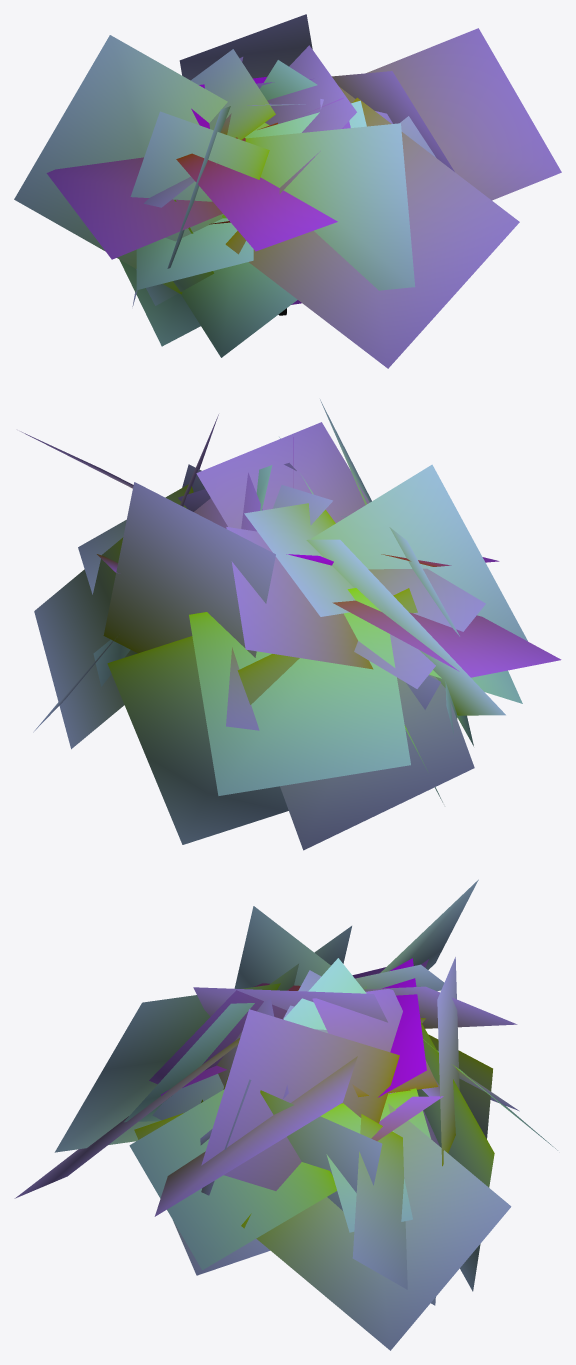
Rendered from tree_azalea_a_bloom_lod1.glb.
The picture shows the model from 3 angles, top to bottom: view 1: azimuth 30°, elevation 25°; view 2: azimuth 150°, elevation 25°; view 3: azimuth 270°, elevation 25°; orthographic projection. The views are drawn at different scales.
Visible parts, largest first — view 1: tree_azalea_a_bloom_lod1; view 2: tree_azalea_a_bloom_lod1; view 3: tree_azalea_a_bloom_lod1.
Part boxes in pixels (x1,y1,x2,y2): tree_azalea_a_bloom_lod1: (14,14,561,368); tree_azalea_a_bloom_lod1: (20,399,561,850); tree_azalea_a_bloom_lod1: (14,879,557,1350).
Bounding box in the file's own units: 2.57 × 1.55 × 2.29.
